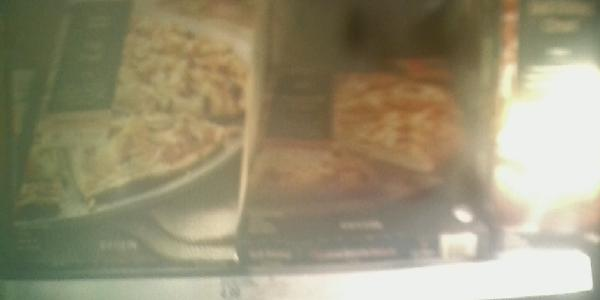pizza1: (10, 1, 253, 254), (249, 47, 490, 259)
